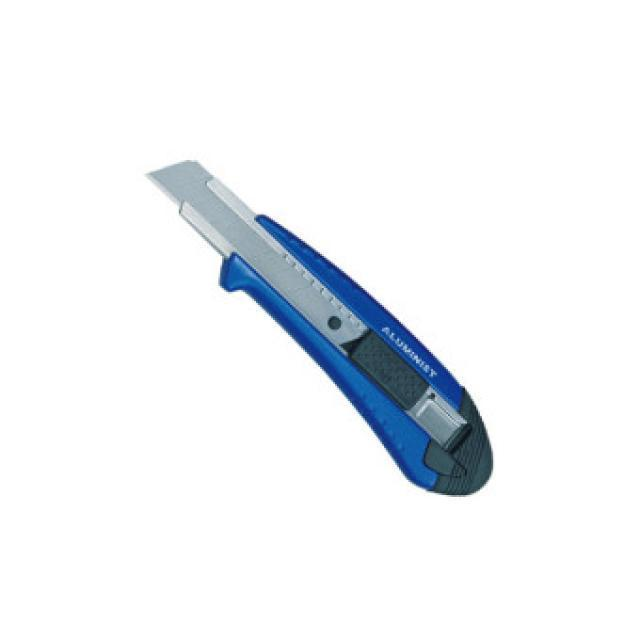cutter: (126, 140, 510, 506)
